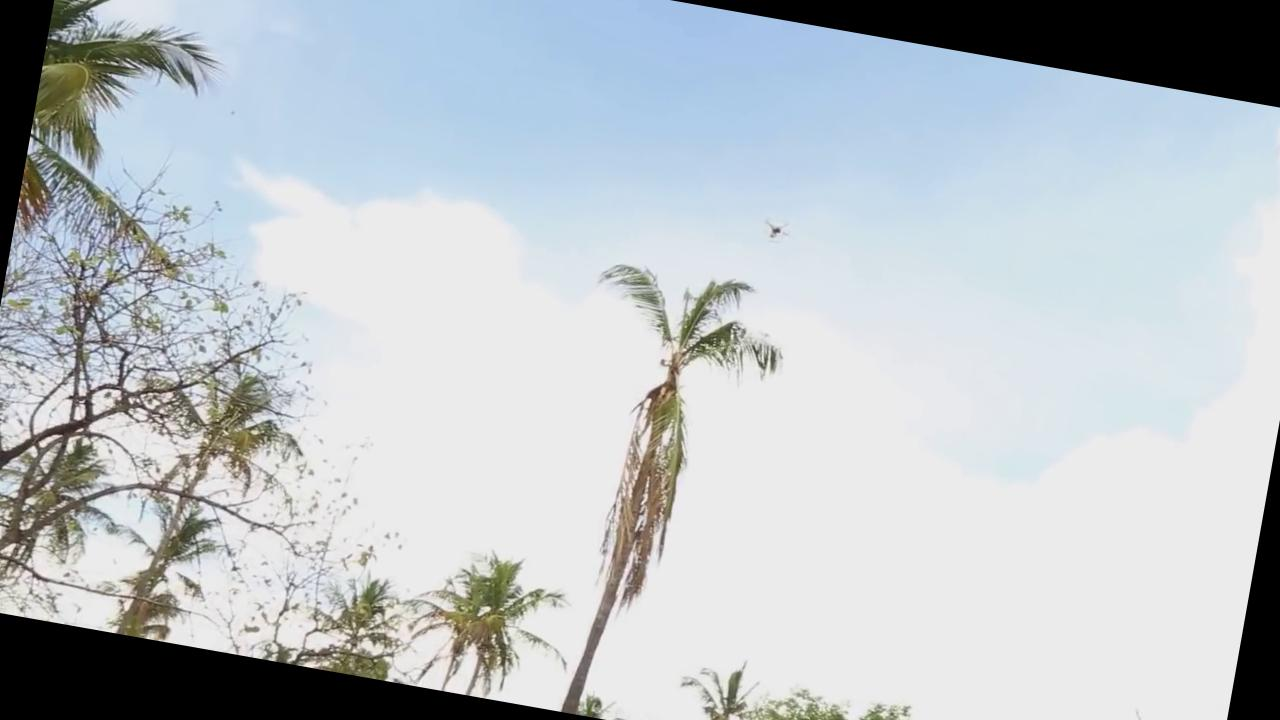drone: (749, 213, 795, 247)
